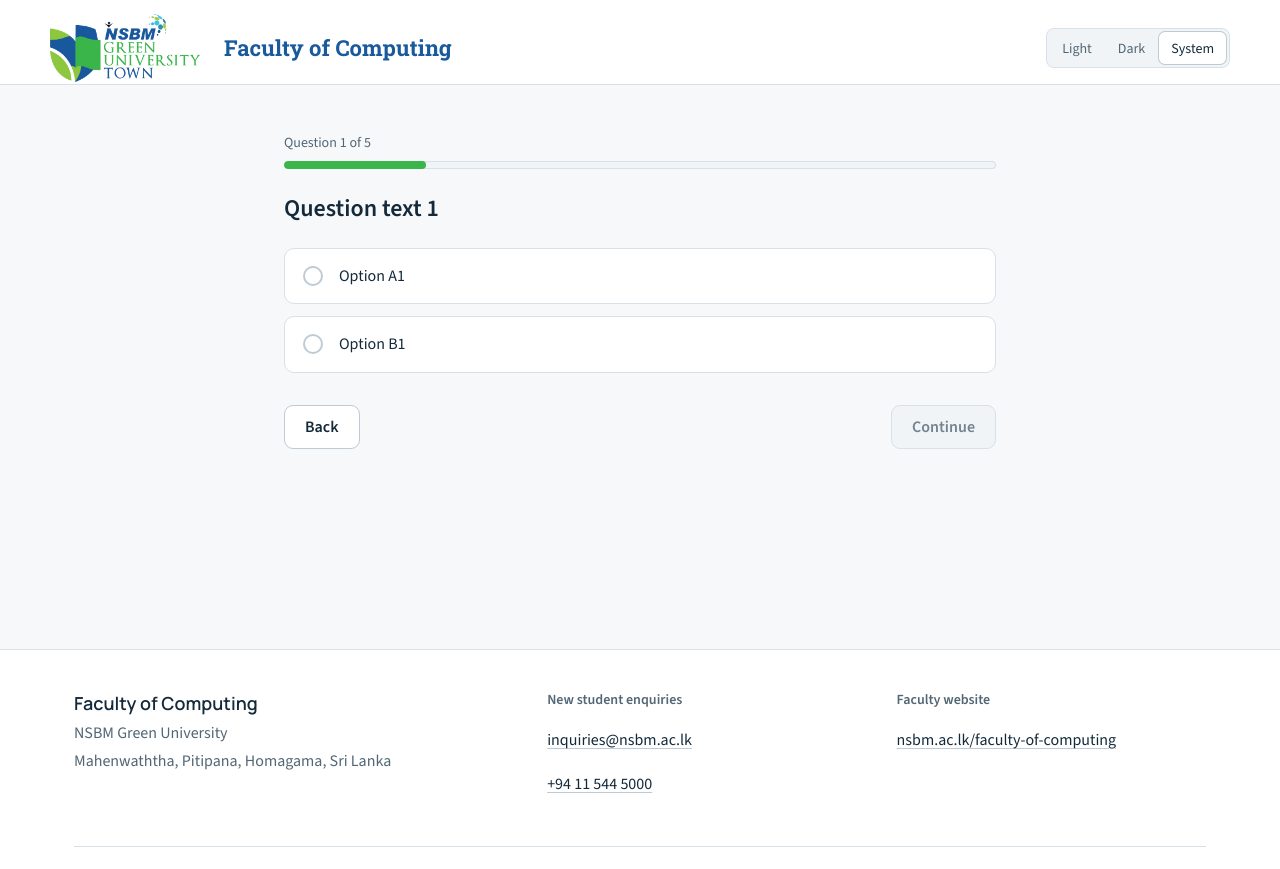
Test: questionnaire › goes back to the landing page from the first question
Click the button "Back" at {"x": 322, "y": 427}, box [284,405,360,449]
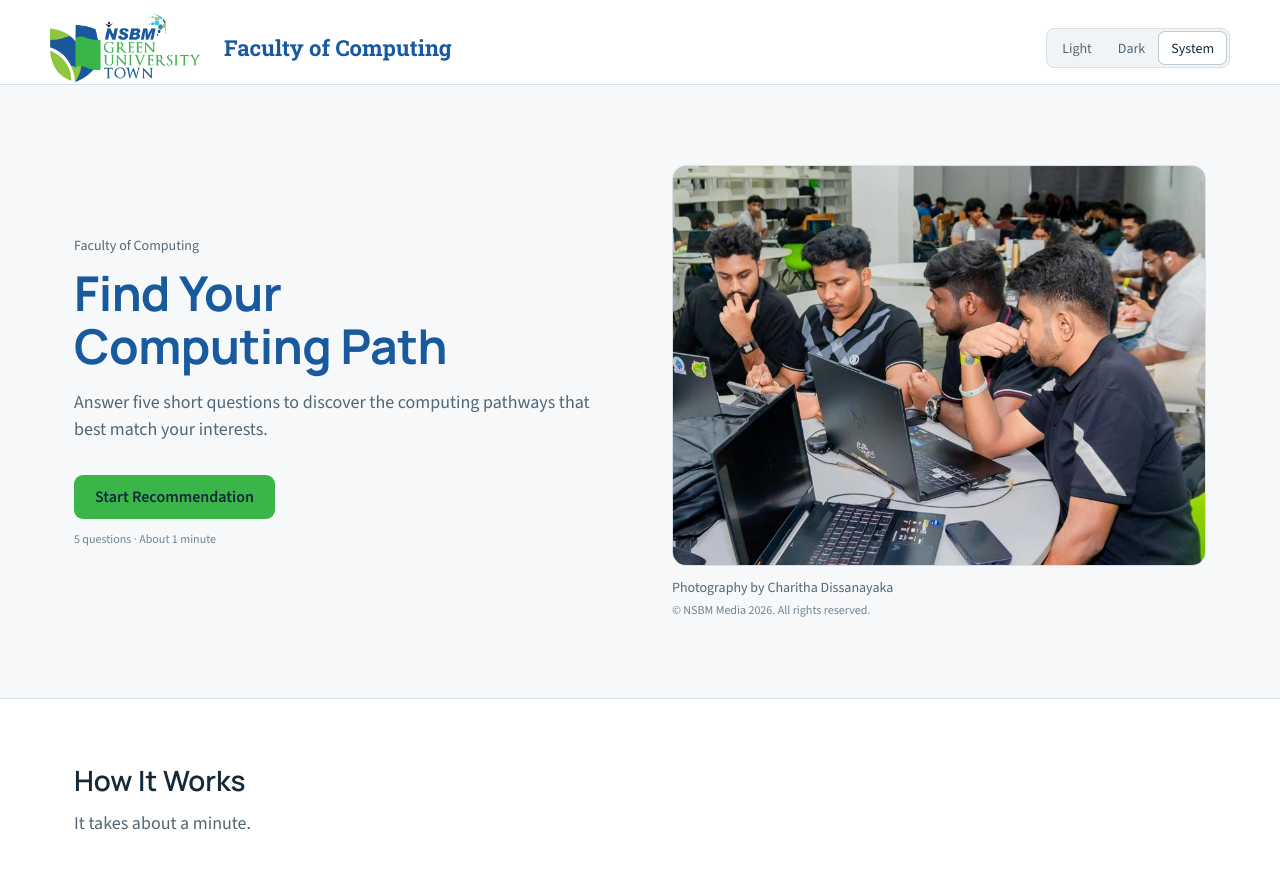
expect the heading "Find Your Computing Path" is shown: met, box [74,260,447,378]
